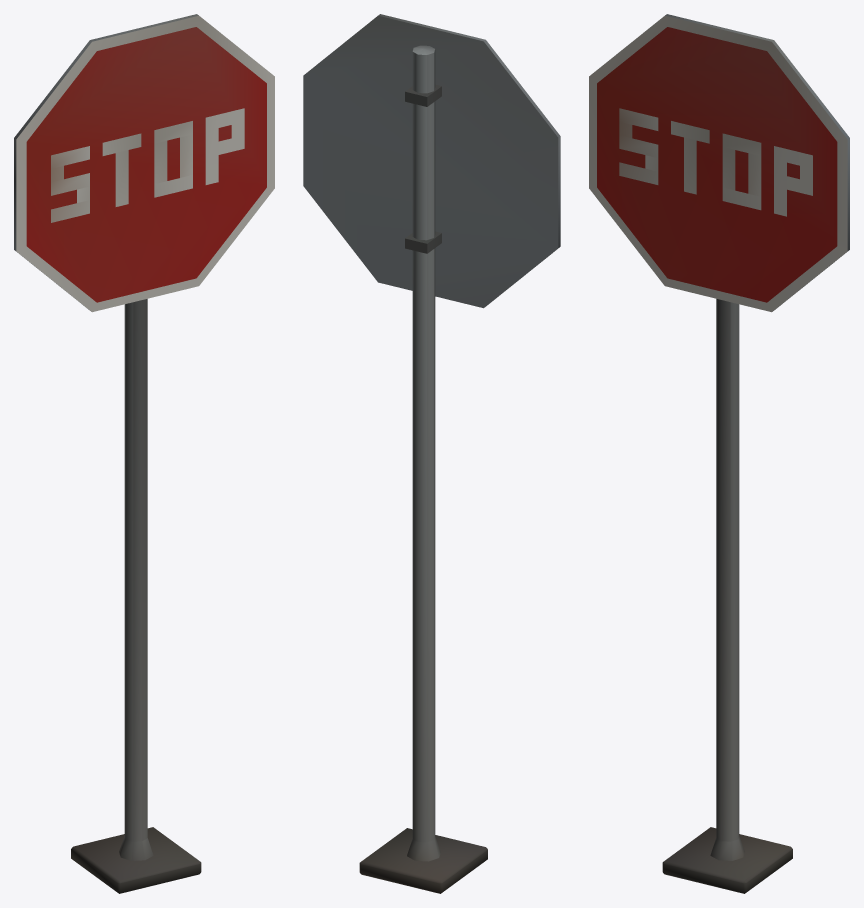
Rendered from sign_stop.glb.
3 renders of one model, left to right at view 1: azimuth 30°, elevation 25°; view 2: azimuth 150°, elevation 25°; view 3: azimuth 330°, elevation 25°, orthographic.
Visible parts, largest first — view 1: SignStop; view 2: SignStop; view 3: SignStop.
Boxes of the visible parts, bbox=[...] form: SignStop: bbox=[14, 14, 274, 893]; SignStop: bbox=[303, 14, 560, 893]; SignStop: bbox=[589, 14, 849, 893].
Bounding box in the file's own units: 0.8 × 2.5 × 0.26.
